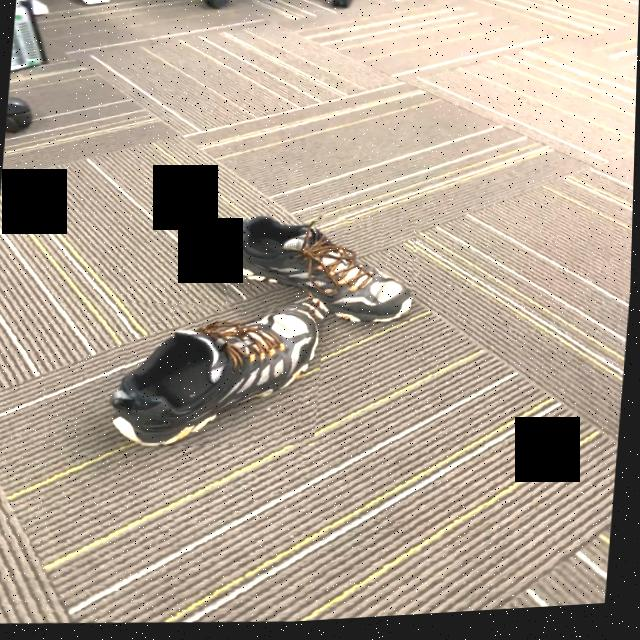shoe: (113, 311, 326, 449), (230, 221, 414, 327)
